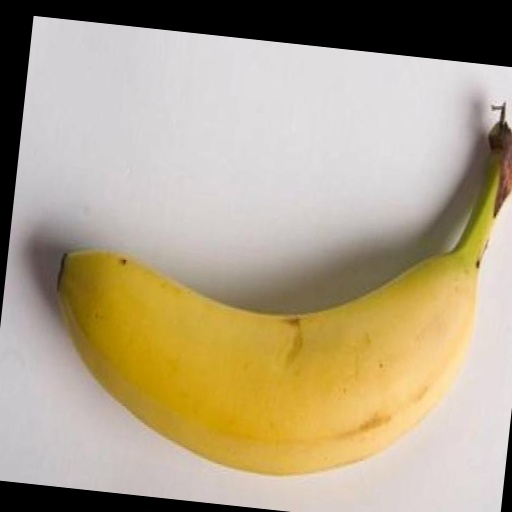fruit: (58, 109, 512, 474)
